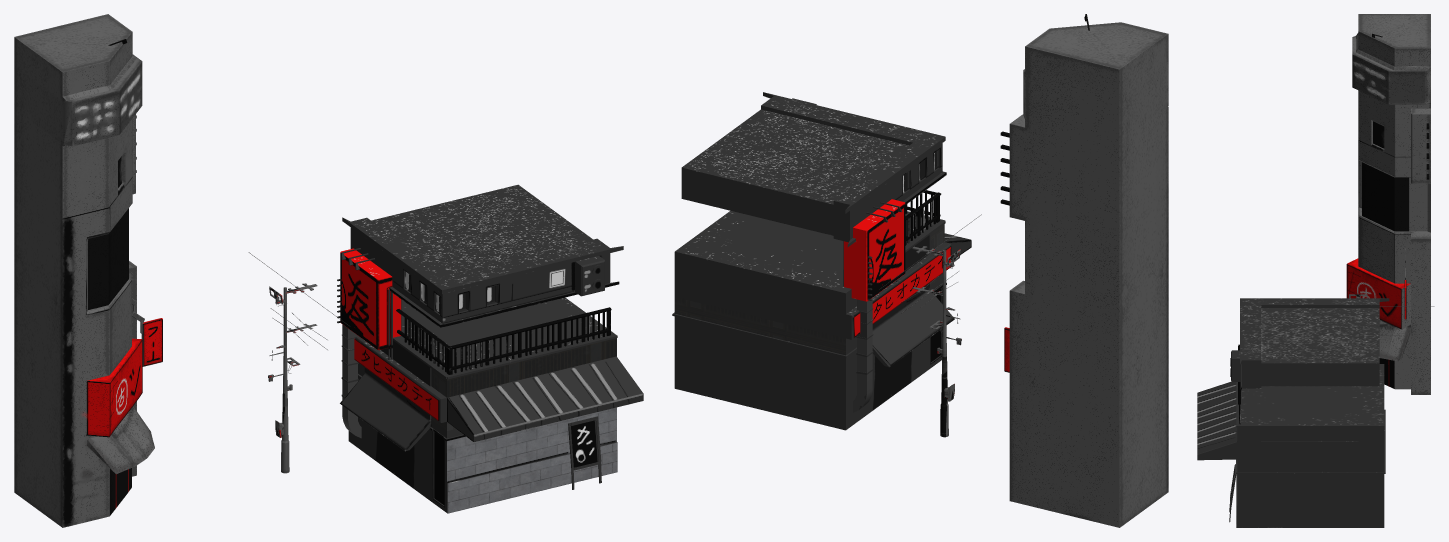
File: dog.glb
3 renders of one model, left to right at view 1: azimuth 30°, elevation 25°; view 2: azimuth 150°, elevation 25°; view 3: azimuth 270°, elevation 25°, orthographic. The views are drawn at different scales.
Parts seen in each view (by area): view 1: pCube109, pCube39; view 2: pCube39, pCube109; view 3: pCube109, pCube39.
Boxes of the visible parts, <box> form: pCube109: <box>337,184,643,513</box>; pCube39: <box>14,14,349,527</box>; pCube39: <box>879,14,1168,527</box>; pCube109: <box>672,92,971,430</box>; pCube109: <box>1197,298,1389,527</box>; pCube39: <box>1346,14,1434,394</box>.
Size of the model in its own units: 1.61 by 1.49 by 0.9187.
Materials: 2 (2 with a texture image).
